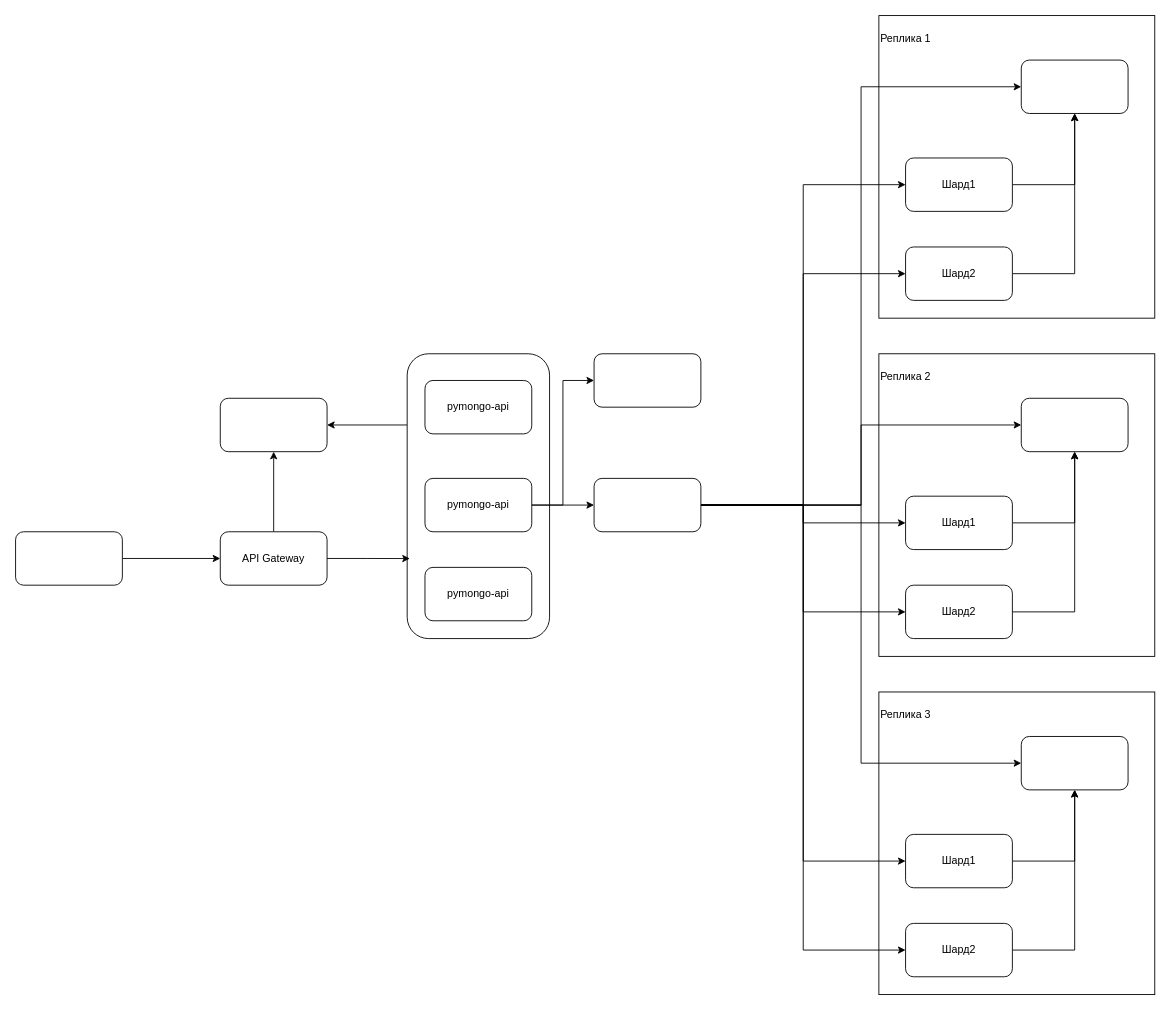
Image size: 1170x1010. Some labels were removed from this diagram. Each missing label, with the centre of its shape:
Consul: the point at 273,424
Redis: the point at 647,380
Клиент: the point at 68,558
Конфигуратор: the point at 1074,86
Конфигуратор 2: the point at 1074,424
Конфигуратор 3: the point at 1074,763
Роутер: the point at 647,504
